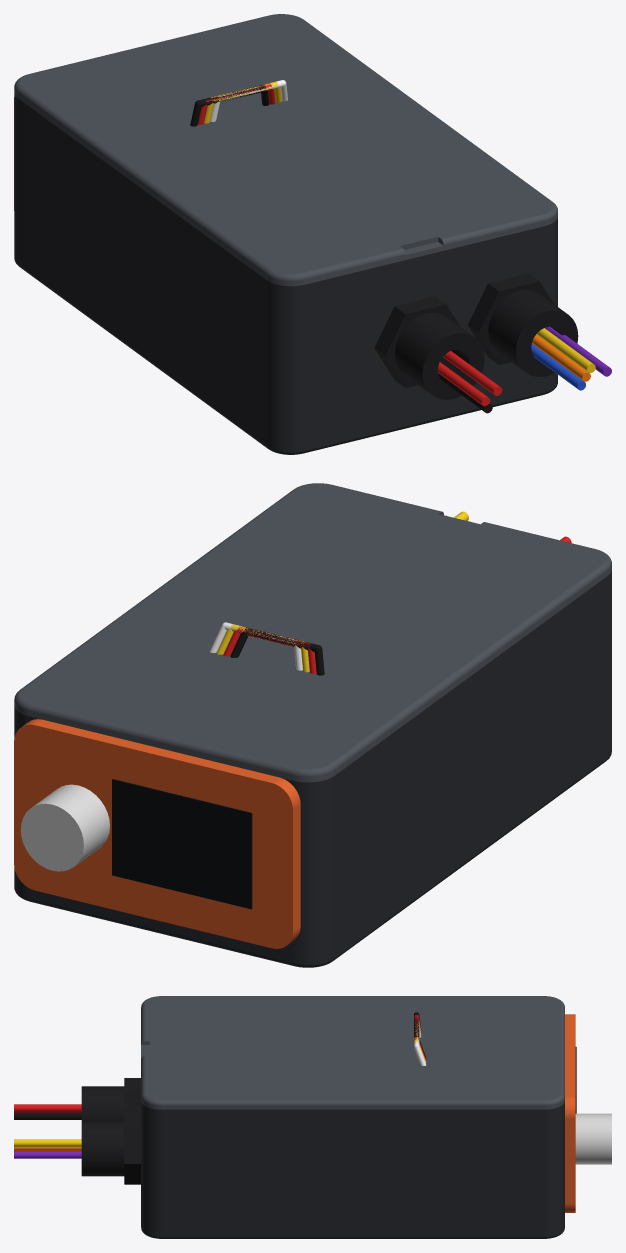
The model's file is wrangler_air_cust_adc.glb.
3 views of the same model, one above another, from view 1: azimuth 30°, elevation 25°; view 2: azimuth 150°, elevation 25°; view 3: azimuth 270°, elevation 25° (orthographic). The views are drawn at different scales.
Visible parts, largest first — view 1: box_cust_adc_lid, box_cust_adc_body, gland_M12_power, gland_M12_sensor_ARB, W2_grove_PORT_A_to_ADC_black, sensor_5V_to_X4, 12V_to_DinMeter_plus, sensor_signal_to_ADC, sensor_GND_to_ADC, 12V_to_relay_COM; view 2: box_cust_adc_lid, box_cust_adc_body, bezel, screen, knob, W2_grove_PORT_A_to_ADC_black, W2_grove_PORT_A_to_ADC_red; view 3: box_cust_adc_body, box_cust_adc_lid, gland_M12_sensor_ARB, bezel, gland_M12_power, knob, sensor_signal_to_ADC, relay_NO_to_ARB, 12V_to_DinMeter_plus, GND_to_DinMeter_minus.
Part boxes in pixels (x1,y1,x2,y2): box_cust_adc_lid: (14,14,557,286); box_cust_adc_body: (14,94,557,454); gland_M12_power: (374,296,484,399); gland_M12_sensor_ARB: (468,273,578,376); W2_grove_PORT_A_to_ADC_black: (190,84,269,126); sensor_5V_to_X4: (532,334,590,381); 12V_to_DinMeter_plus: (443,351,502,395); sensor_signal_to_ADC: (536,328,595,372); sensor_GND_to_ADC: (531,343,585,390); 12V_to_relay_COM: (437,362,490,406); box_cust_adc_lid: (14,483,611,782); box_cust_adc_body: (14,571,611,967); bezel: (14,719,300,948); screen: (112,779,252,909); knob: (20,784,109,871); W2_grove_PORT_A_to_ADC_black: (230,627,324,675); W2_grove_PORT_A_to_ADC_red: (223,626,316,673); box_cust_adc_body: (141,1101,564,1238); box_cust_adc_lid: (141,996,564,1109); gland_M12_sensor_ARB: (81,1113,140,1184); bezel: (565,1014,575,1212); gland_M12_power: (81,1078,140,1121); knob: (575,1113,611,1164); sensor_signal_to_ADC: (14,1139,81,1146); relay_NO_to_ARB: (14,1151,81,1158); 12V_to_DinMeter_plus: (14,1104,81,1111); GND_to_DinMeter_minus: (14,1113,81,1119).
Size of the model in its own units: 60 by 40.85 by 141.
